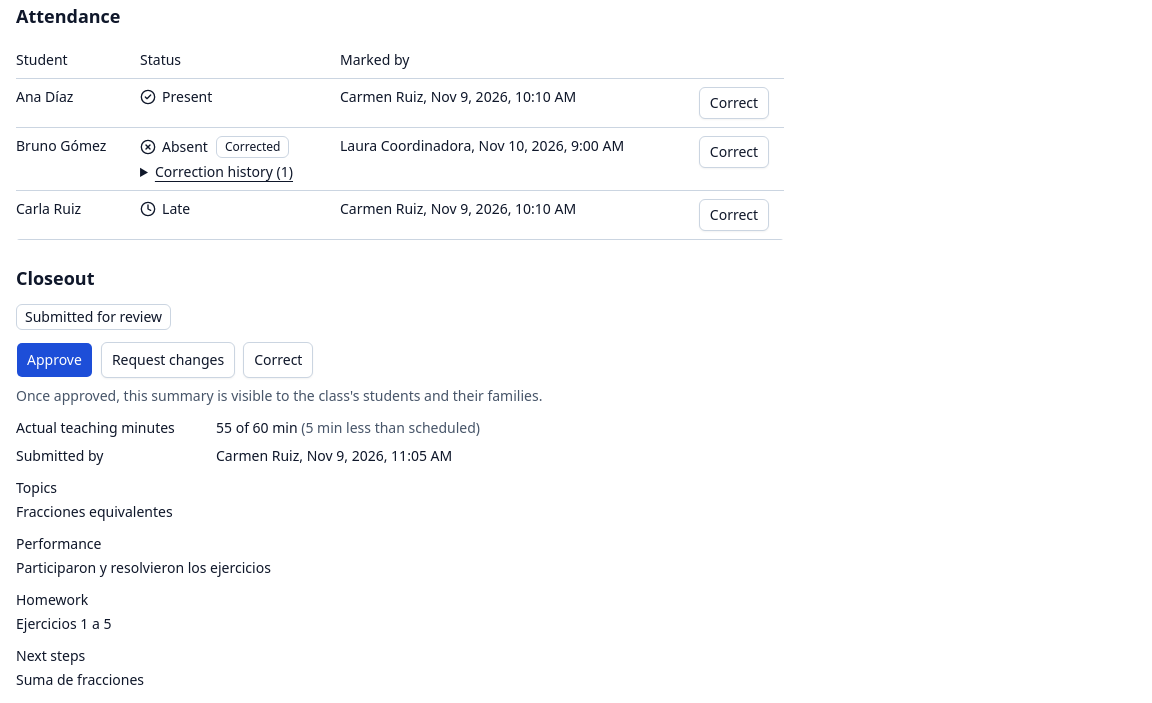
the review actions (#78 G1) › approves with the closeout version after a confirmation
(page scrolled)
Click the button "Approve": click(54, 360) top-left (16, 342), bottom-right (93, 378)
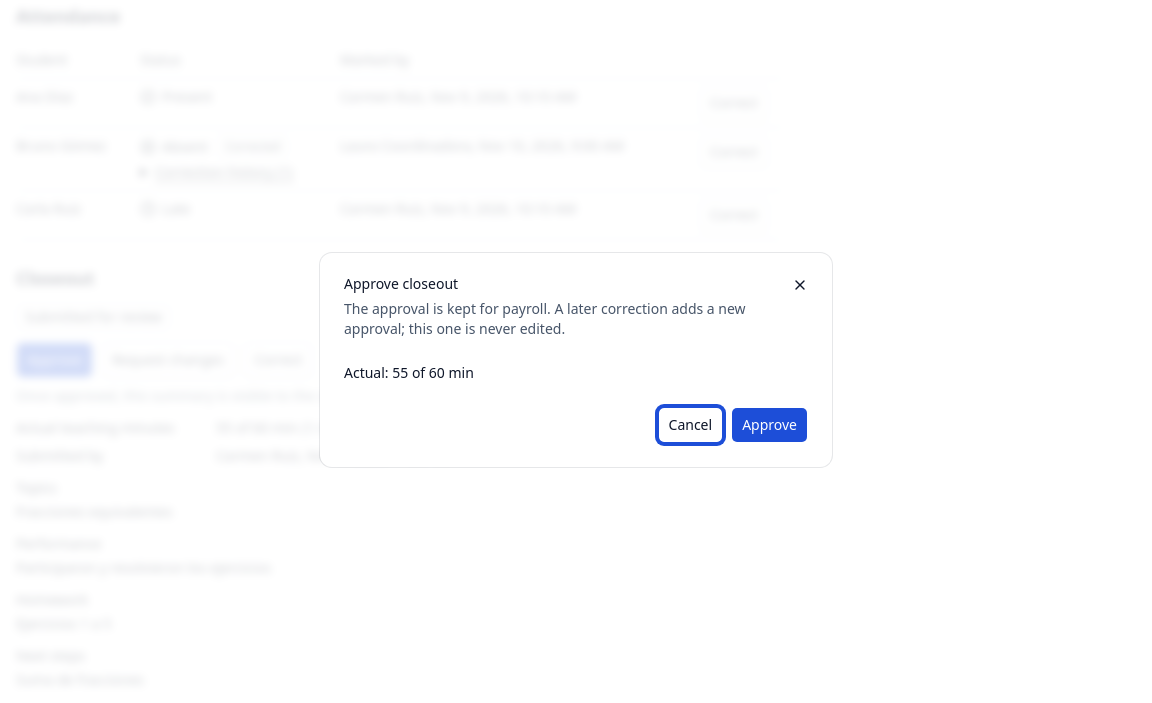
Result: the dialog shows "Actual: 55 of 60 min" at top-left (344, 363), bottom-right (474, 382)
Click the button "Approve": click(770, 425) top-left (731, 407), bottom-right (808, 443)
(page scrolled)
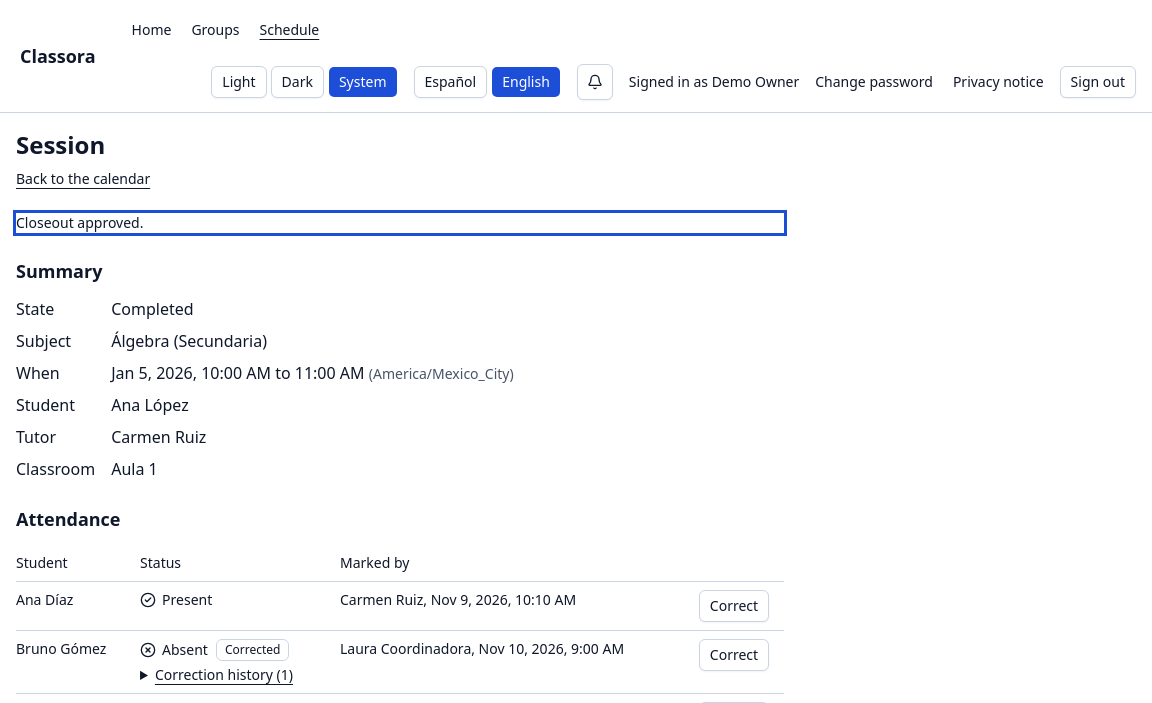
Result: the dialog is gone
